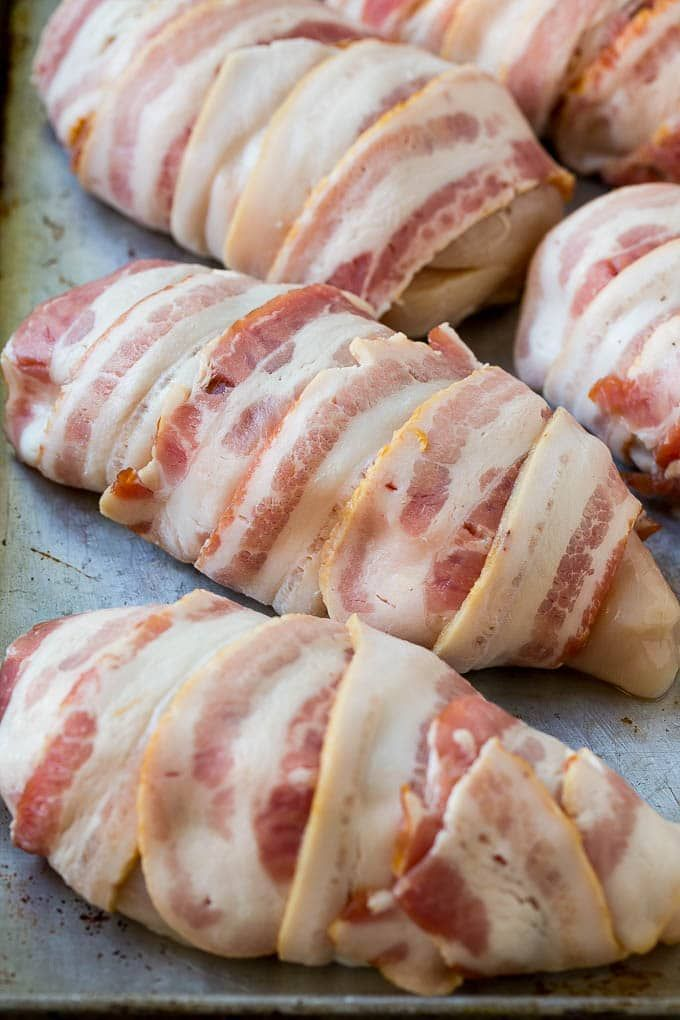bacon: (22, 242, 647, 649), (31, 593, 680, 949), (28, 6, 680, 353)
